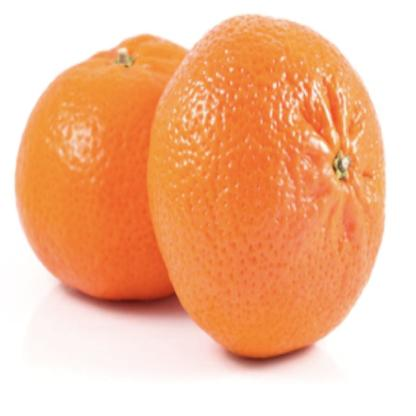fresh: (14, 16, 385, 366)
